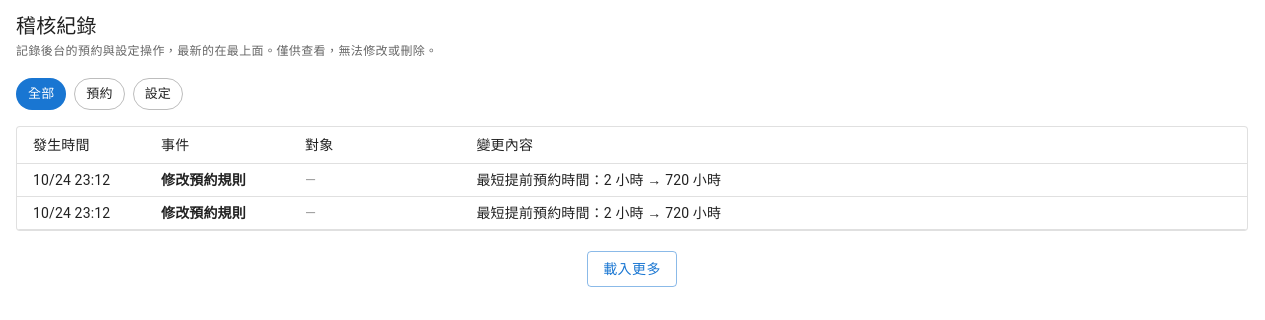
Test: AuditLogView › 載入更多 › 以最後一筆的游標載入下一頁並接在後面；沒有下一頁後按鈕消失
Expected: the table is shown, [17,127,1247,230]
Expected: the number of rows is 3, [17,127,1247,163]; [17,163,1247,196]; [17,196,1247,229]
Step 1. Click the button "載入更多" → (632, 269), box [587,251,677,287]
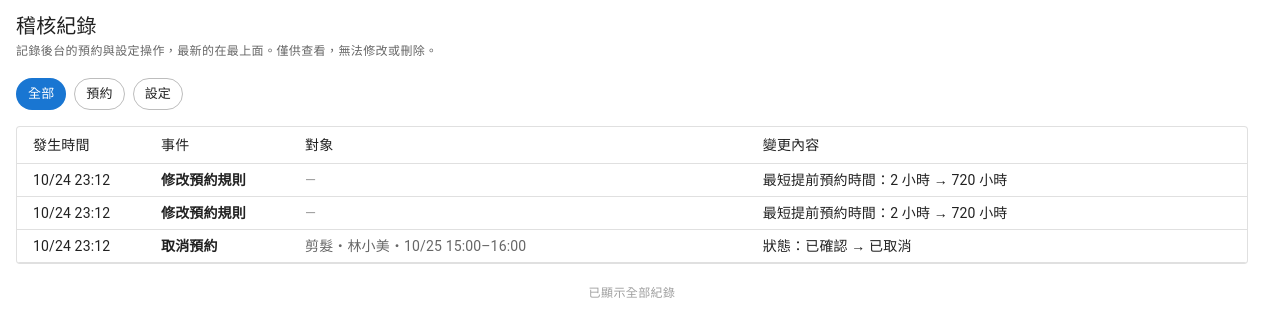
Expected: the number of rows is 4, [17,127,1247,163]; [17,163,1247,196]; [17,196,1247,229]; [17,229,1247,262]
Expected: the button "載入更多" is gone
Expected: the text "已顯示全部紀錄" is shown, [589,284,675,304]
